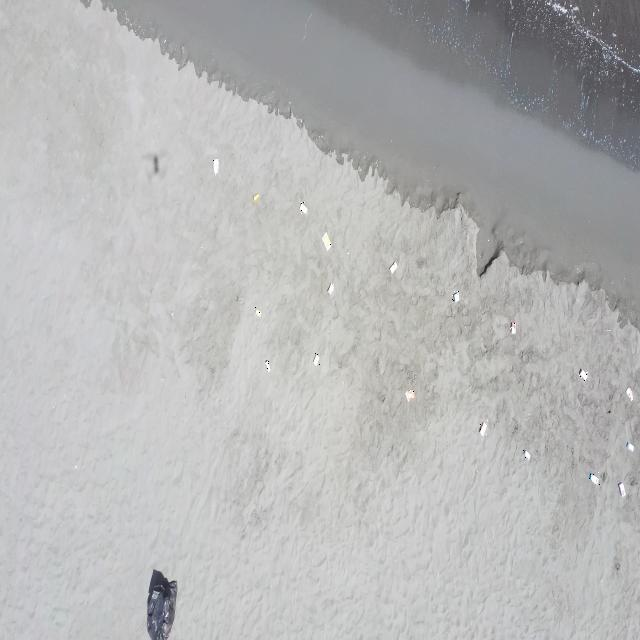retort-pouch: (321, 230, 332, 252), (589, 471, 600, 487), (405, 388, 415, 404), (579, 367, 589, 383), (618, 480, 626, 498), (388, 261, 398, 275), (480, 419, 488, 436), (626, 386, 634, 402), (299, 202, 308, 216), (626, 440, 635, 454), (312, 352, 320, 367), (452, 291, 460, 305), (327, 282, 335, 296), (213, 157, 219, 175), (510, 320, 517, 335), (523, 449, 531, 462), (252, 190, 260, 202), (255, 307, 262, 320), (265, 360, 271, 372)
